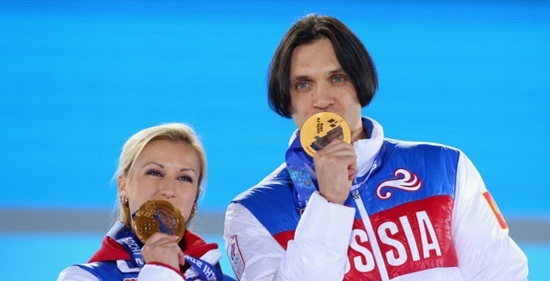face: (291, 43, 362, 138), (127, 144, 198, 237)
